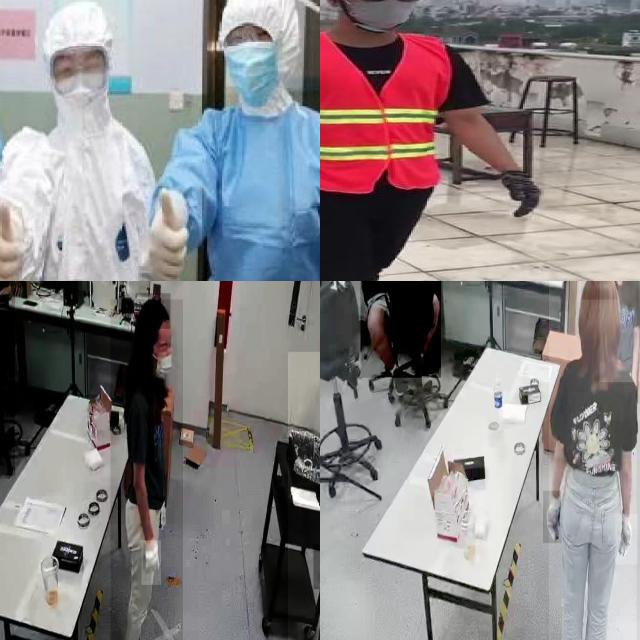face_mask: (47, 45, 113, 130), (227, 23, 273, 85), (146, 315, 178, 383)
glasses: (51, 46, 113, 96)
hand_glove: (148, 186, 187, 281), (0, 201, 24, 281), (615, 514, 639, 565), (543, 491, 562, 544), (142, 540, 162, 586), (313, 544, 320, 589)
head_nohelmet: (40, 0, 116, 57), (202, 0, 301, 34), (135, 293, 171, 330), (581, 281, 618, 300)
person: (320, 0, 555, 281), (0, 0, 177, 281), (148, 0, 320, 281), (549, 281, 637, 640), (110, 299, 183, 640), (360, 281, 441, 379), (599, 281, 640, 382)
shoes: (383, 355, 407, 400), (126, 627, 163, 640)
vest: (320, 33, 450, 193)
